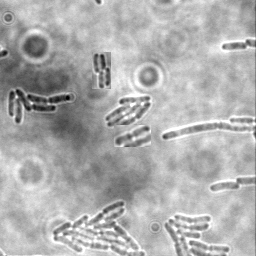Dividing: (161, 123, 255, 142), (114, 125, 151, 147), (221, 41, 248, 52)
Microcolony: (51, 200, 147, 255), (162, 212, 231, 255), (8, 89, 72, 126), (106, 96, 153, 132), (92, 52, 111, 89), (208, 182, 240, 193)
